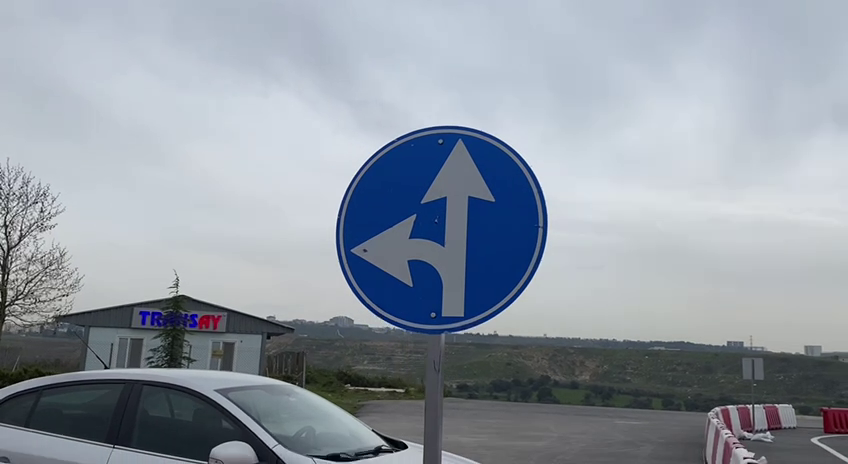forwardAndLeft: (331, 121, 550, 337)
